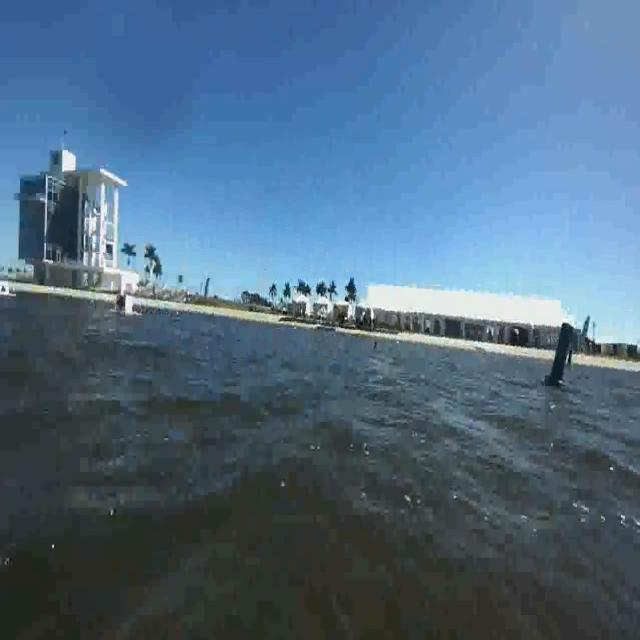green-column-buoy: (547, 320, 570, 390)
